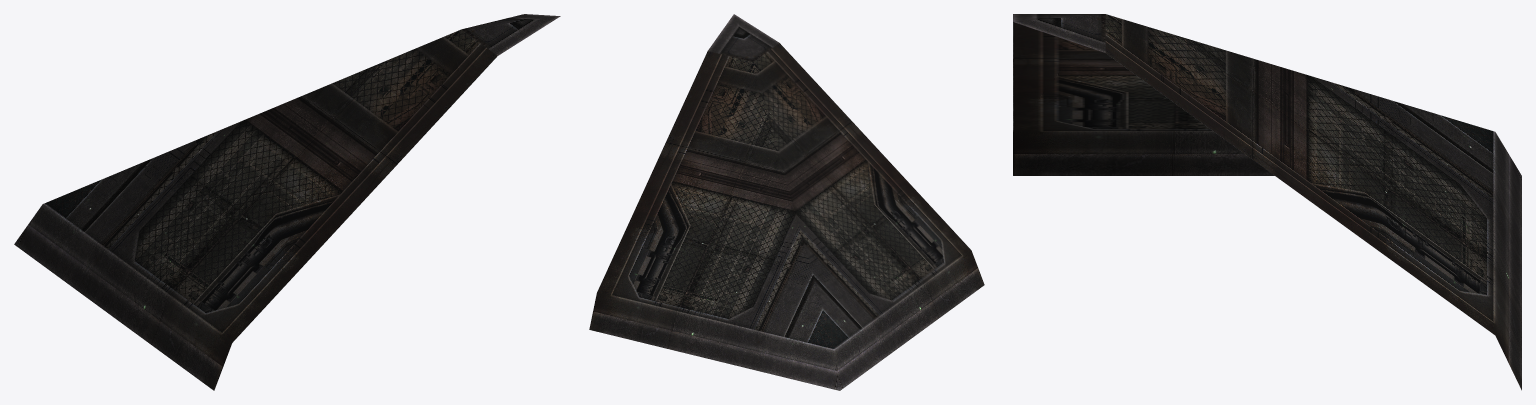
Rendered from Wall_H_DarkBlock_07.fbx.
3 views of the same model, side by side, from view 1: azimuth 30°, elevation 25°; view 2: azimuth 150°, elevation 25°; view 3: azimuth 270°, elevation 25° (orthographic). The views are drawn at different scales.
Parts seen in each view (by area): view 1: Wall_H_DarkBlock_07; view 2: Wall_H_DarkBlock_07; view 3: Wall_H_DarkBlock_07.
Boxes of the visible parts, <box> form: Wall_H_DarkBlock_07: <box>14,14,560,390</box>; Wall_H_DarkBlock_07: <box>589,14,984,390</box>; Wall_H_DarkBlock_07: <box>1013,14,1521,390</box>.
Bounding box in the file's own units: 500 × 400 × 500.
Materials: 1 (1 with a texture image).
